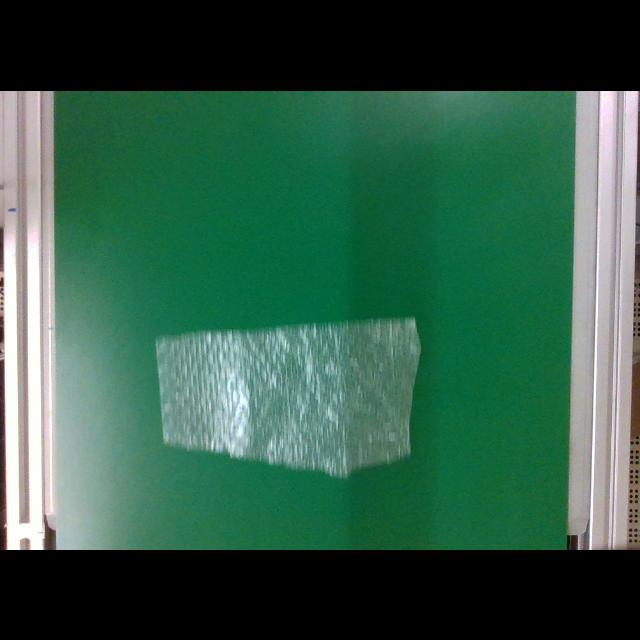scrap_plastic: (148, 308, 426, 478)
